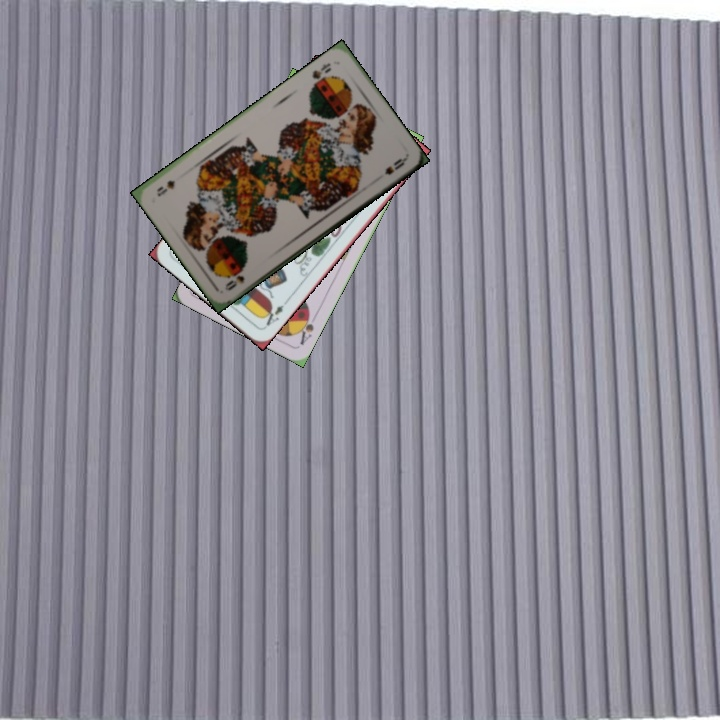EA: (259, 300, 287, 330)
SA: (293, 307, 316, 348)
SO: (308, 59, 334, 88), (221, 265, 247, 293)
